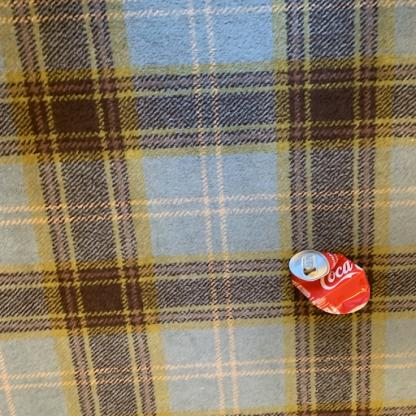trash: (281, 247, 376, 319)
